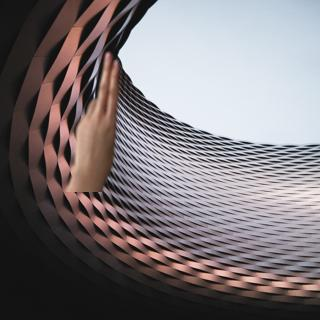DHAVE: (68, 48, 126, 185)
